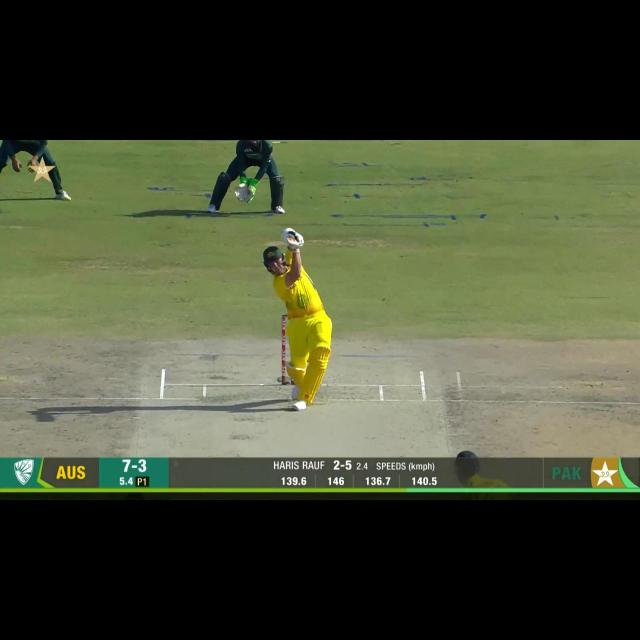toe: (284, 231, 304, 250)
